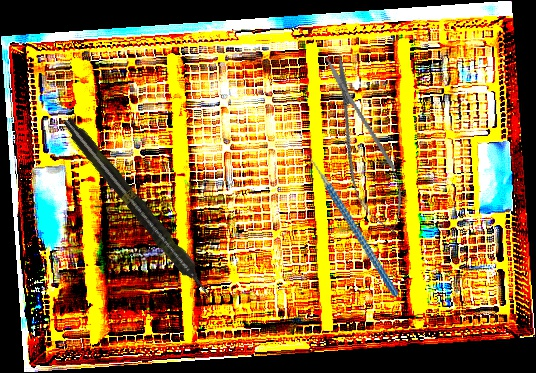Chopper: (293, 133, 400, 312)
Handpiece: (58, 114, 218, 303)
Micro Scissor: (309, 47, 417, 241)
